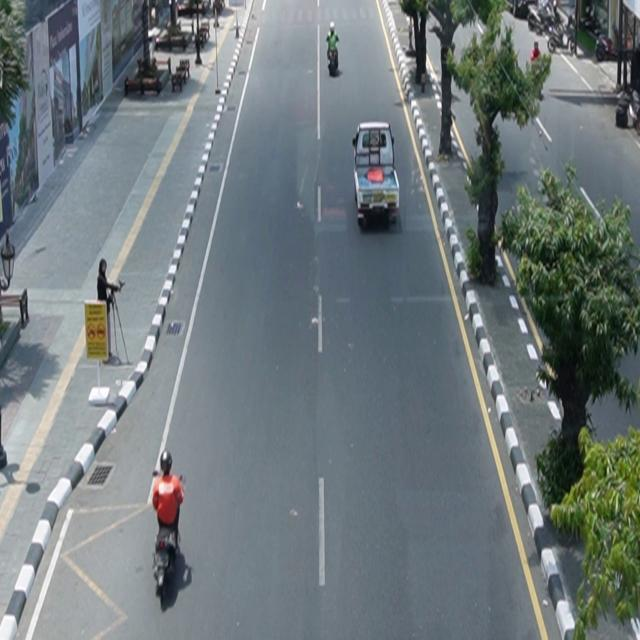car: (353, 122, 401, 228)
